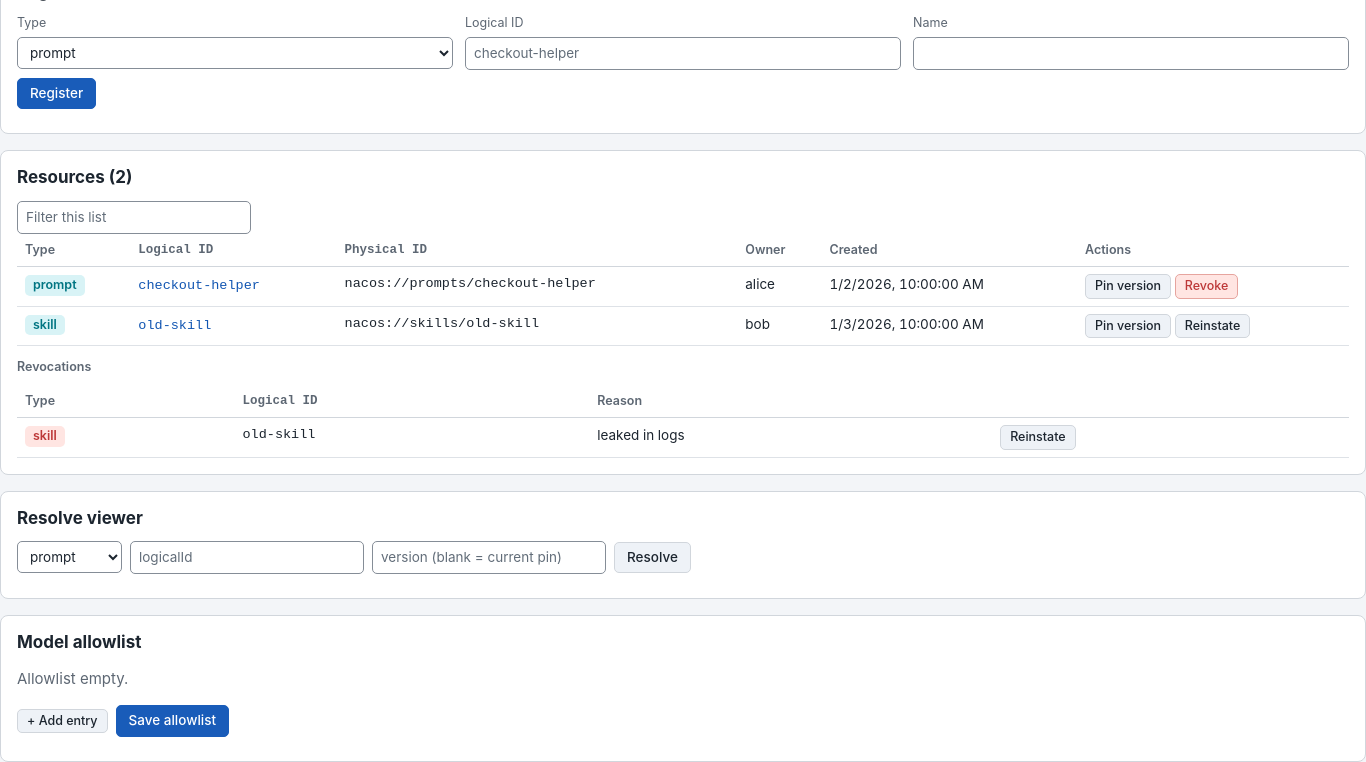
Test: AiPage list › saves the allowlist with the collected entries
(page scrolled)
Check: the text "Allowlist empty." is shown, box 17,669 -> 128,688
Click the button "+ Add entry" at (62, 721), box 17,709 -> 108,733
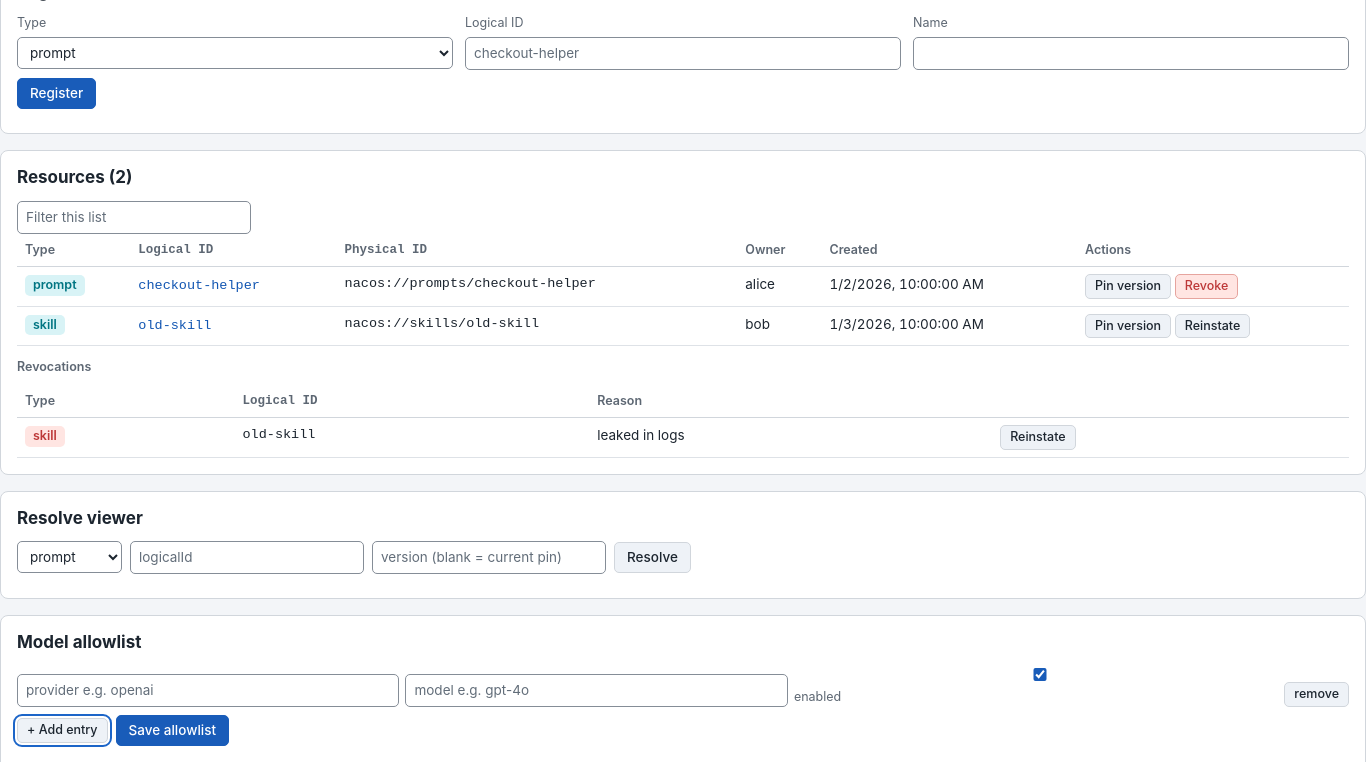
Type "openai" into the field with placeholder "provider e.g. openai" at (208, 690), box 17,674 -> 400,707
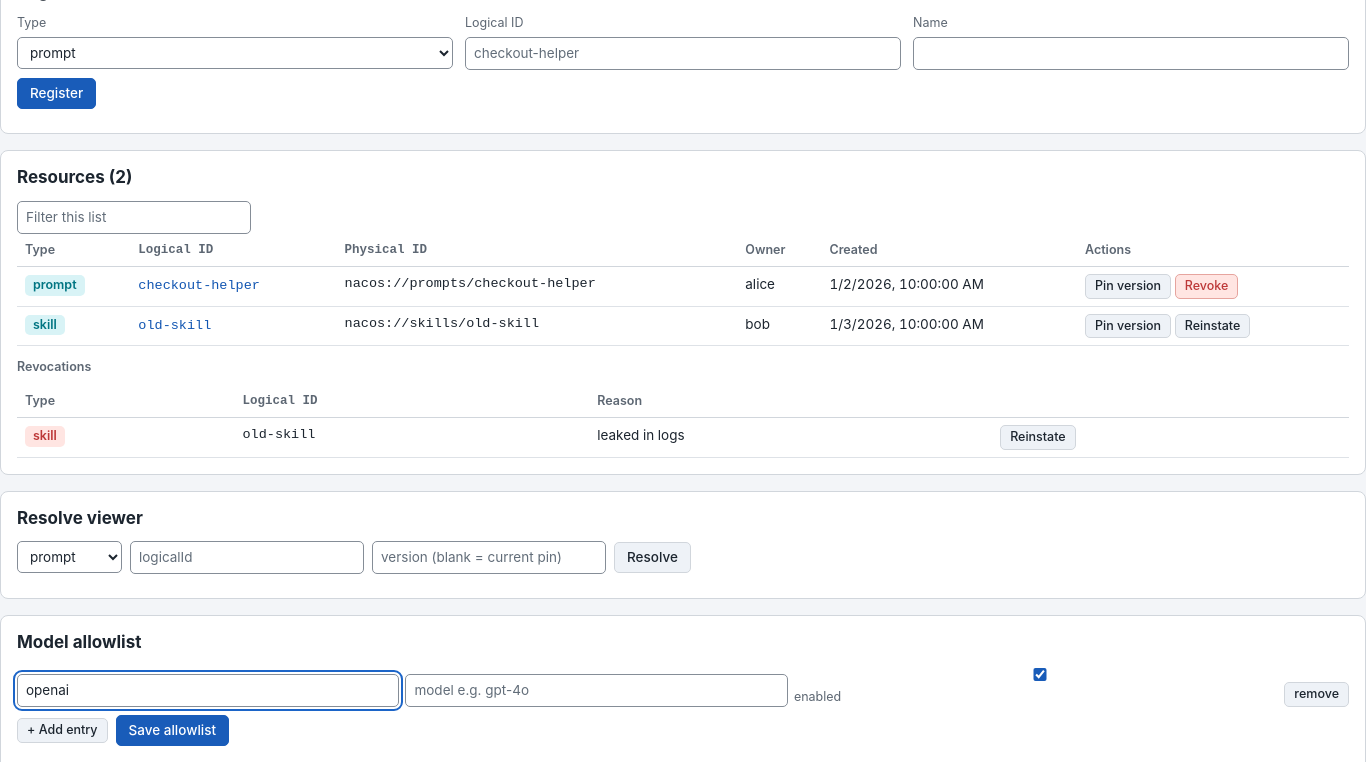
Type "gpt-4o" into the field with placeholder "model e.g. gpt-4o" at (597, 690), box 406,674 -> 788,707
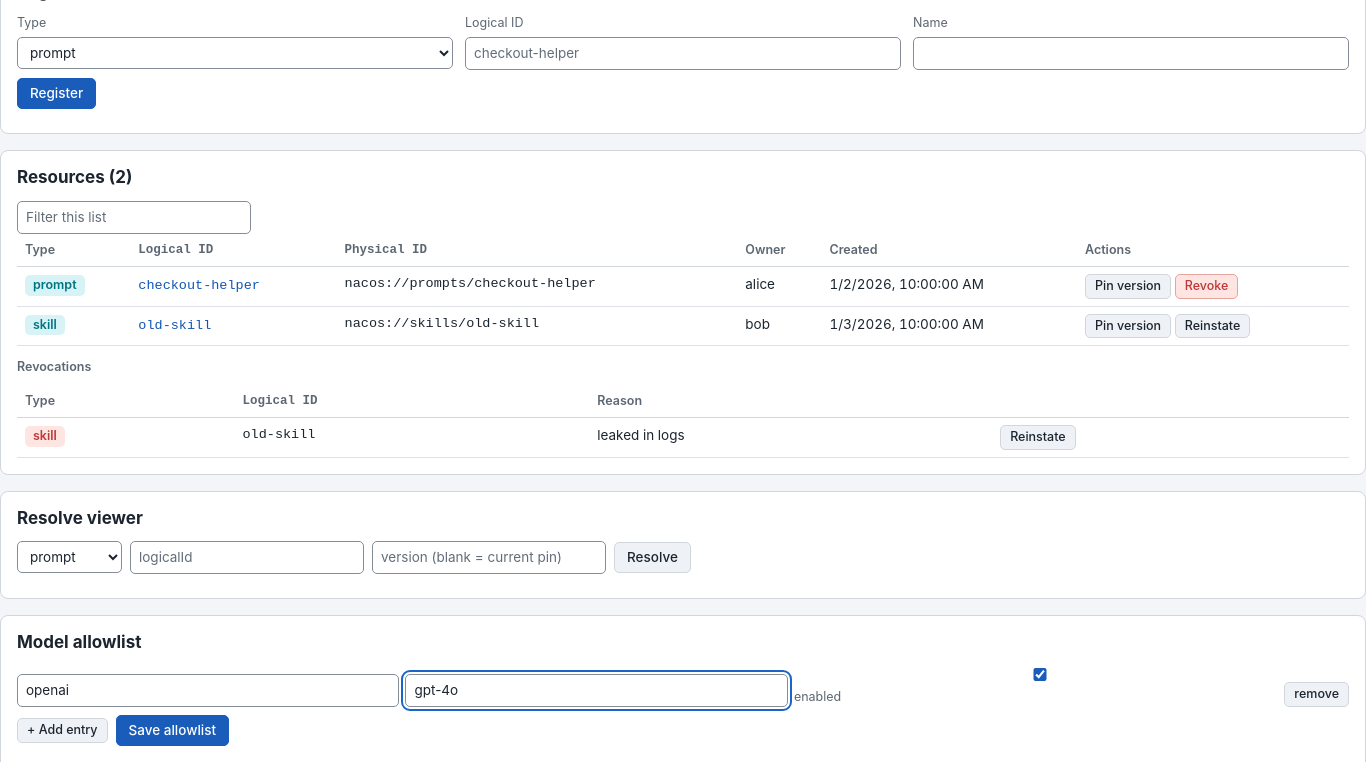
Click the button "Save allowlist" at (172, 730), box 116,715 -> 229,746
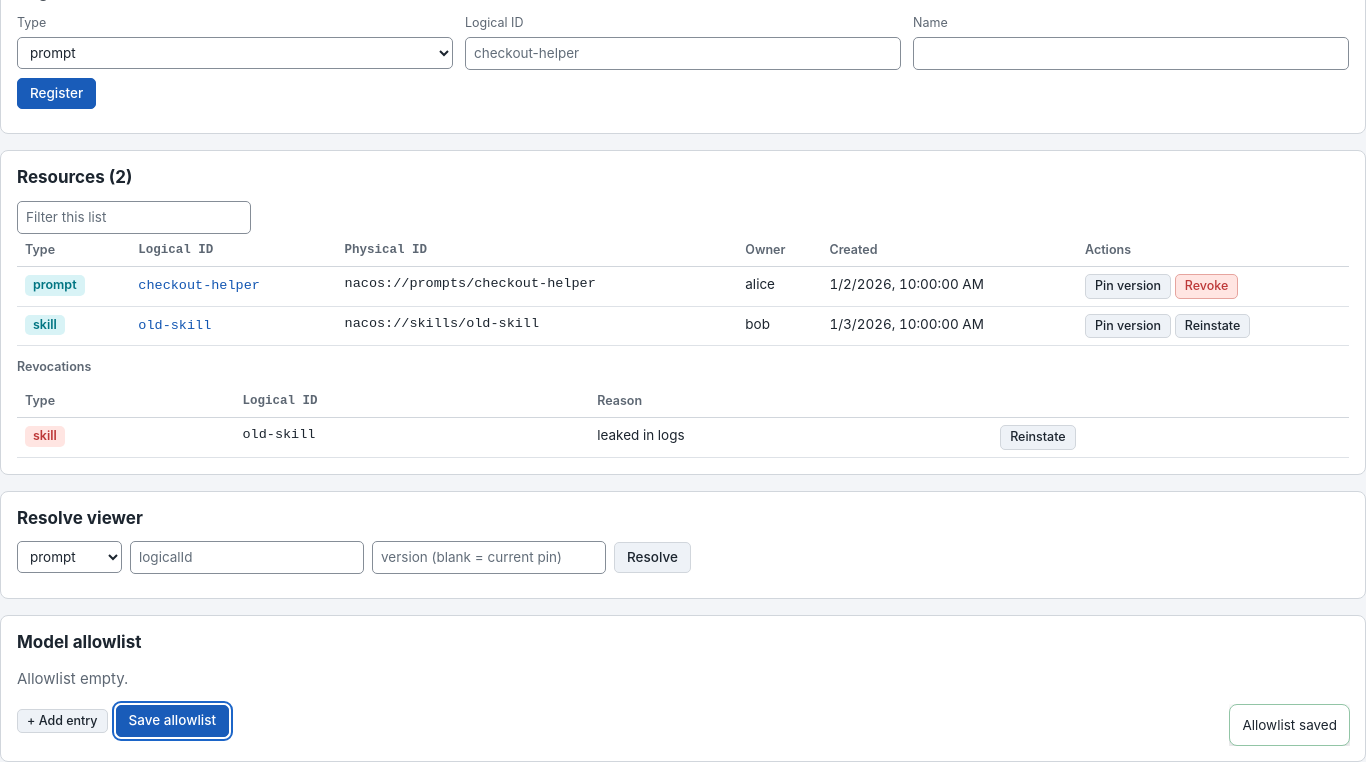
Check: the text "Allowlist saved" is shown, box 1229,704 -> 1350,746
